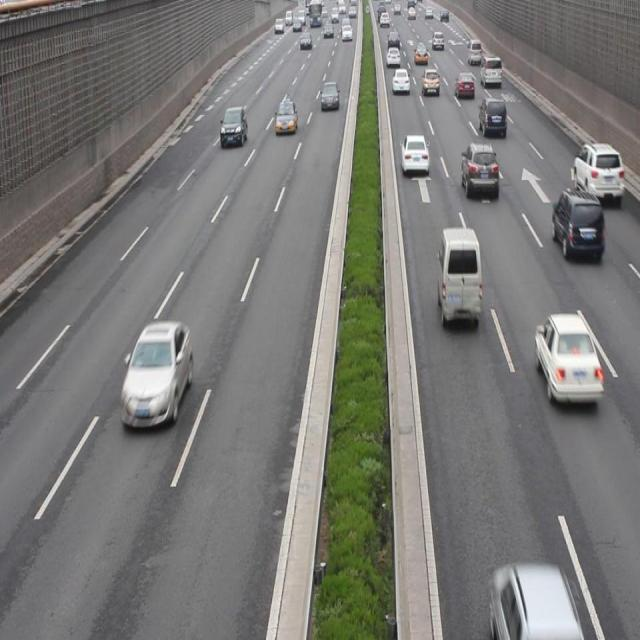car: (122, 321, 192, 428), (490, 563, 580, 640), (532, 314, 600, 408), (550, 186, 604, 256), (570, 143, 623, 204), (459, 144, 497, 199), (219, 104, 248, 148), (400, 133, 430, 175), (478, 99, 506, 134), (276, 99, 298, 134)
truck: (434, 229, 481, 328)
